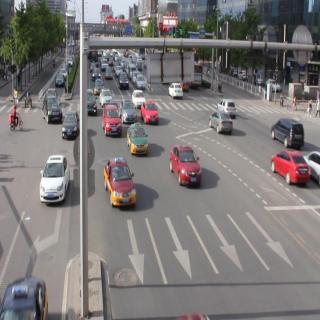Car: (40, 150, 72, 223), (103, 150, 134, 218), (166, 138, 205, 191), (269, 147, 309, 197), (267, 115, 308, 141), (128, 120, 150, 156), (206, 109, 232, 139), (101, 103, 121, 140), (42, 95, 65, 126), (142, 98, 162, 125), (120, 97, 138, 126), (65, 108, 80, 140), (171, 76, 186, 105), (95, 86, 116, 105), (218, 100, 240, 118), (84, 90, 96, 119), (116, 71, 132, 89), (133, 88, 144, 107)
